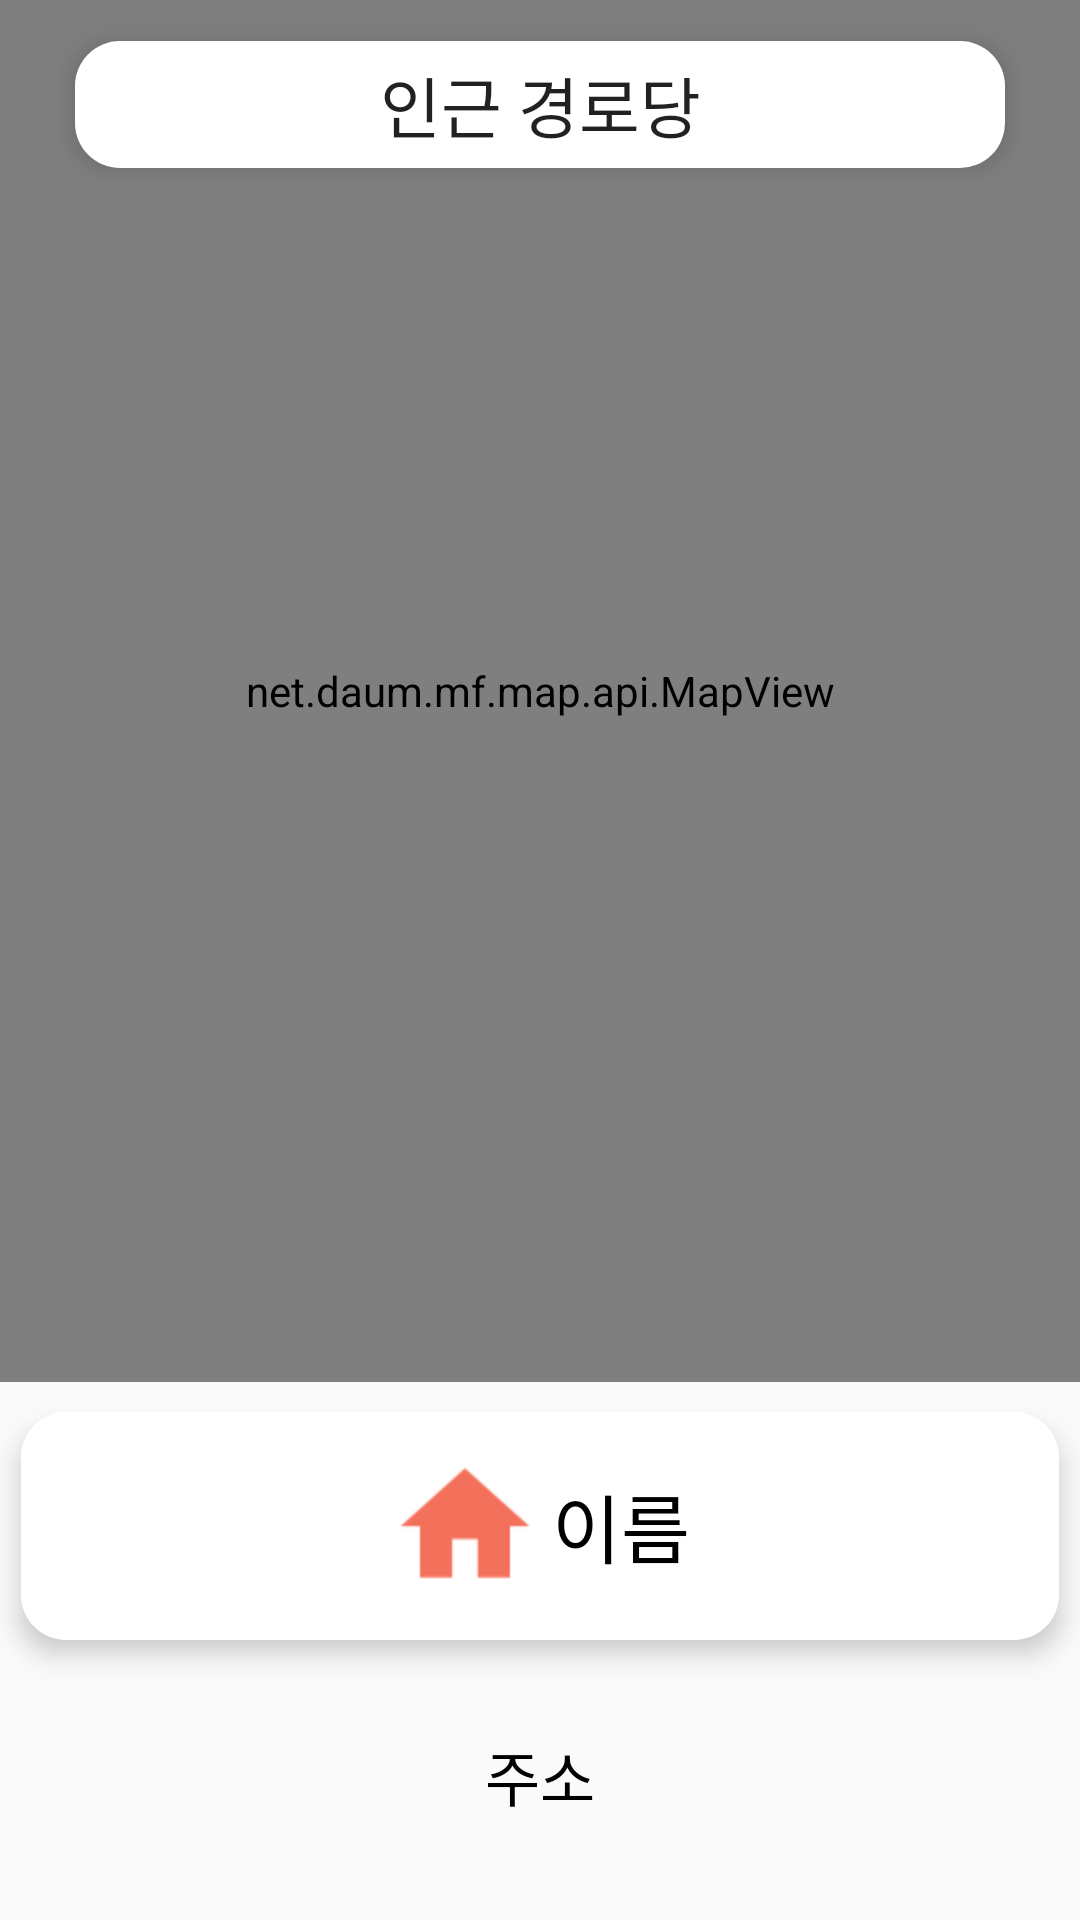

Locate icon controls on the screen. Image size 1080px x 1920px, boxes as [x1,y1,x2,y2].
housepin: [401,1468,529,1579]
